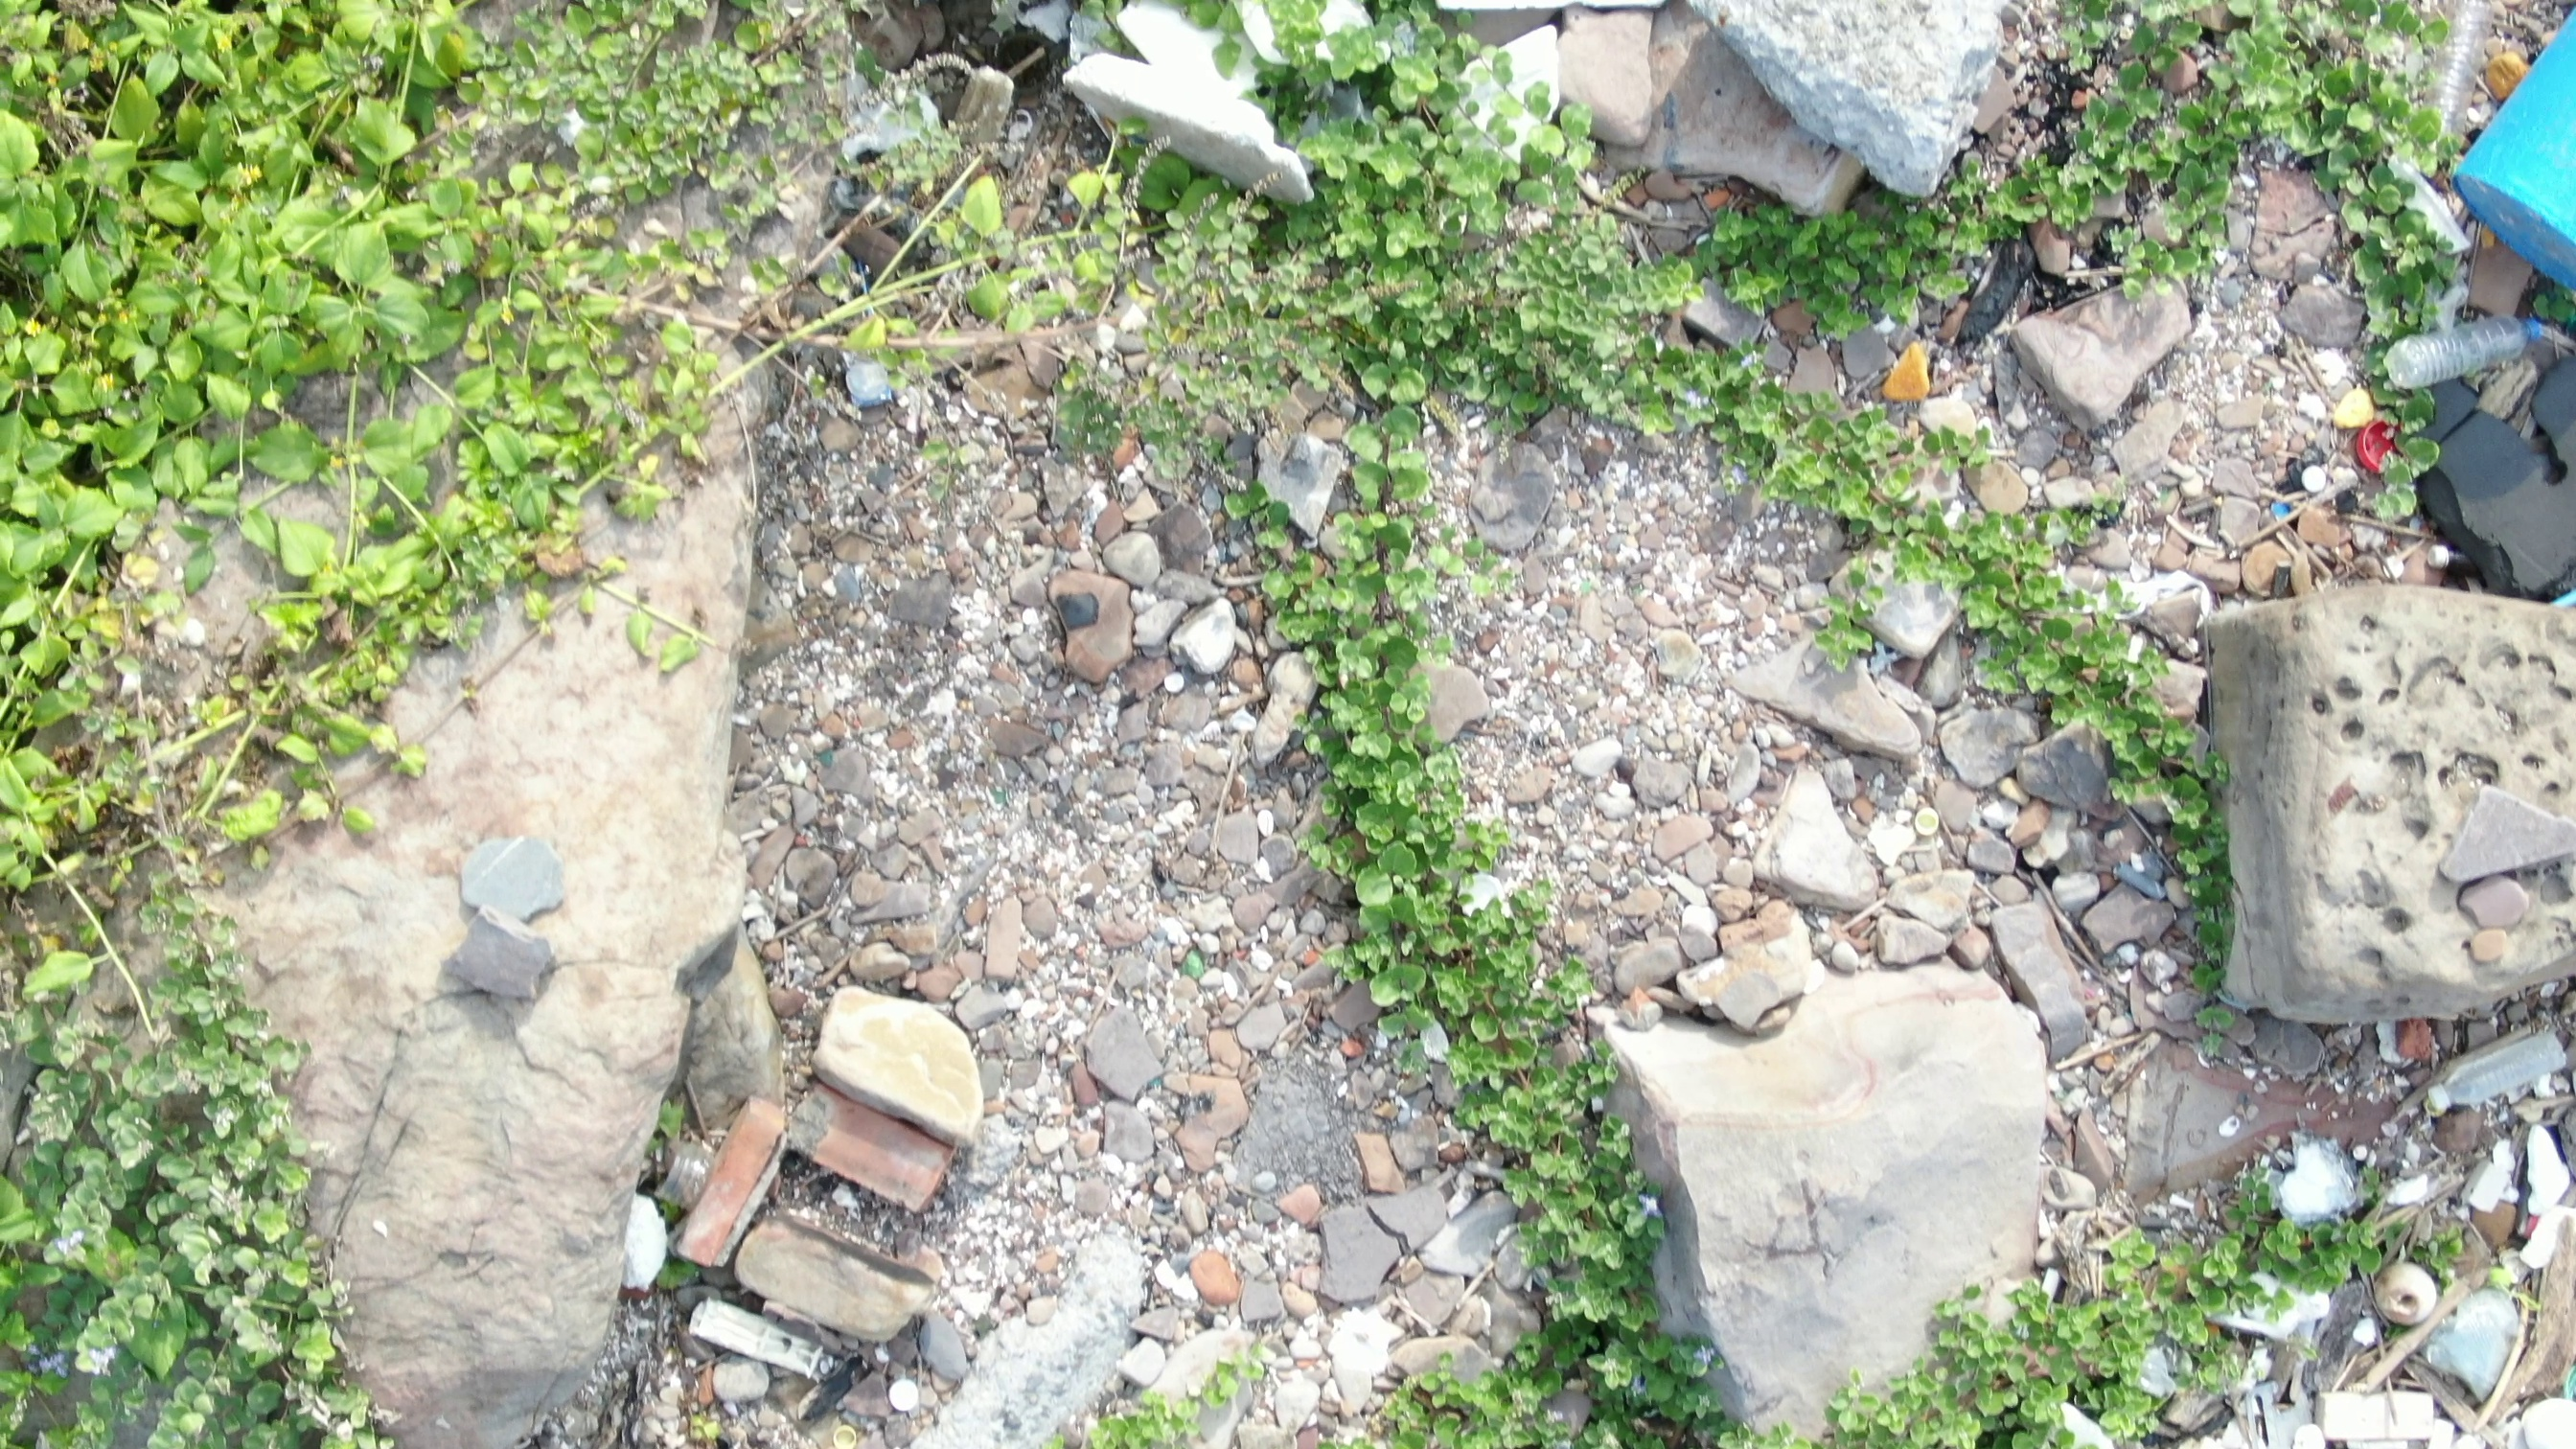bottle: (2376, 301, 2565, 396), (2415, 1023, 2576, 1111), (2420, 2, 2498, 177)
garbage: (2344, 2, 2576, 600), (1060, 2, 1345, 212), (2440, 1129, 2574, 1449)
